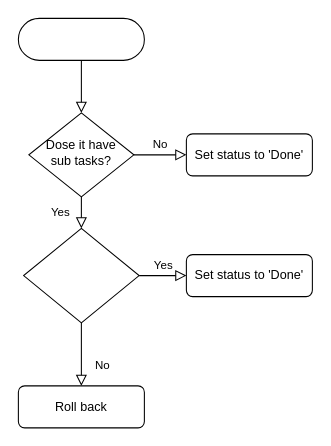
Some shapes in this 331 by 446 pixel diagram are drawn without their labels. The box of each missing label's shape, as (x1, y1, x2, y2) in pixels:
Are the sub tasks status 'Done': (23, 227, 139, 323)
User wants to close a ticket: (17, 17, 144, 60)
